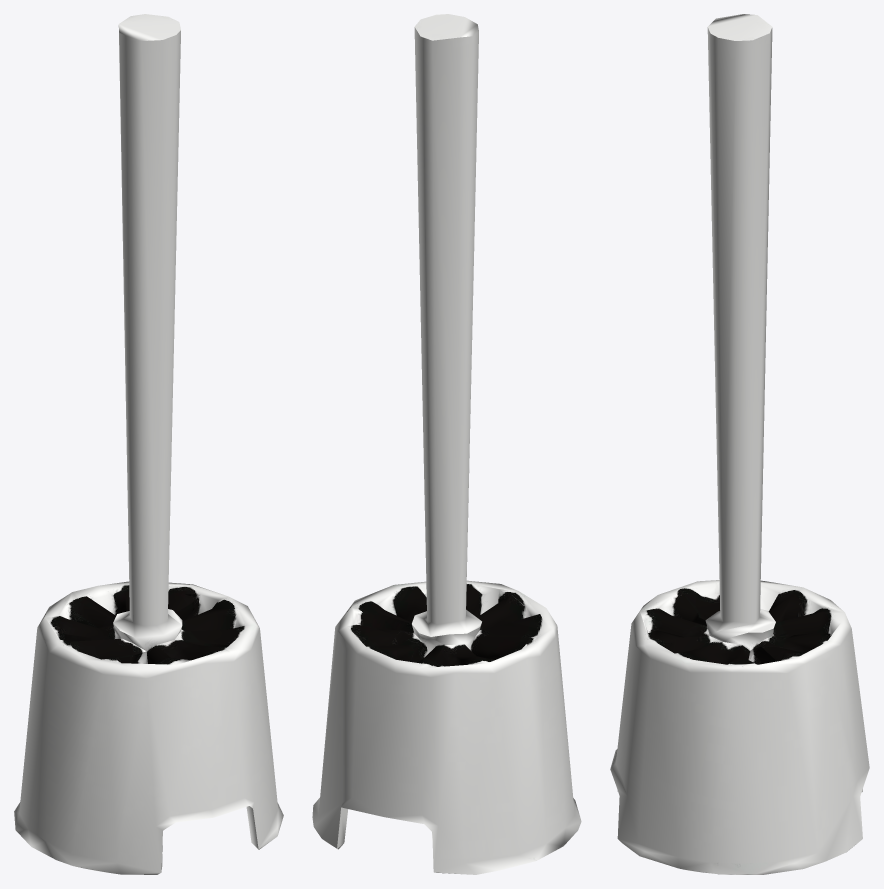
The model's file is BOLMEN Porte-brosse WC blanc.glb.
3 views of the same model, side by side, from view 1: azimuth 30°, elevation 25°; view 2: azimuth 150°, elevation 25°; view 3: azimuth 270°, elevation 25° (orthographic).
Parts seen in each view (by area): view 1: ASY_ART_40574435_S01_NV01; view 2: ASY_ART_40574435_S01_NV01; view 3: ASY_ART_40574435_S01_NV01.
Part boxes in pixels (box(x1,y1,x2,y2)): ASY_ART_40574435_S01_NV01: box(14, 14, 283, 874); ASY_ART_40574435_S01_NV01: box(312, 14, 581, 874); ASY_ART_40574435_S01_NV01: box(610, 14, 869, 874).
Size of the model in its own units: 0.1104 by 0.3583 by 0.1061.
1 material, 1 textured.
